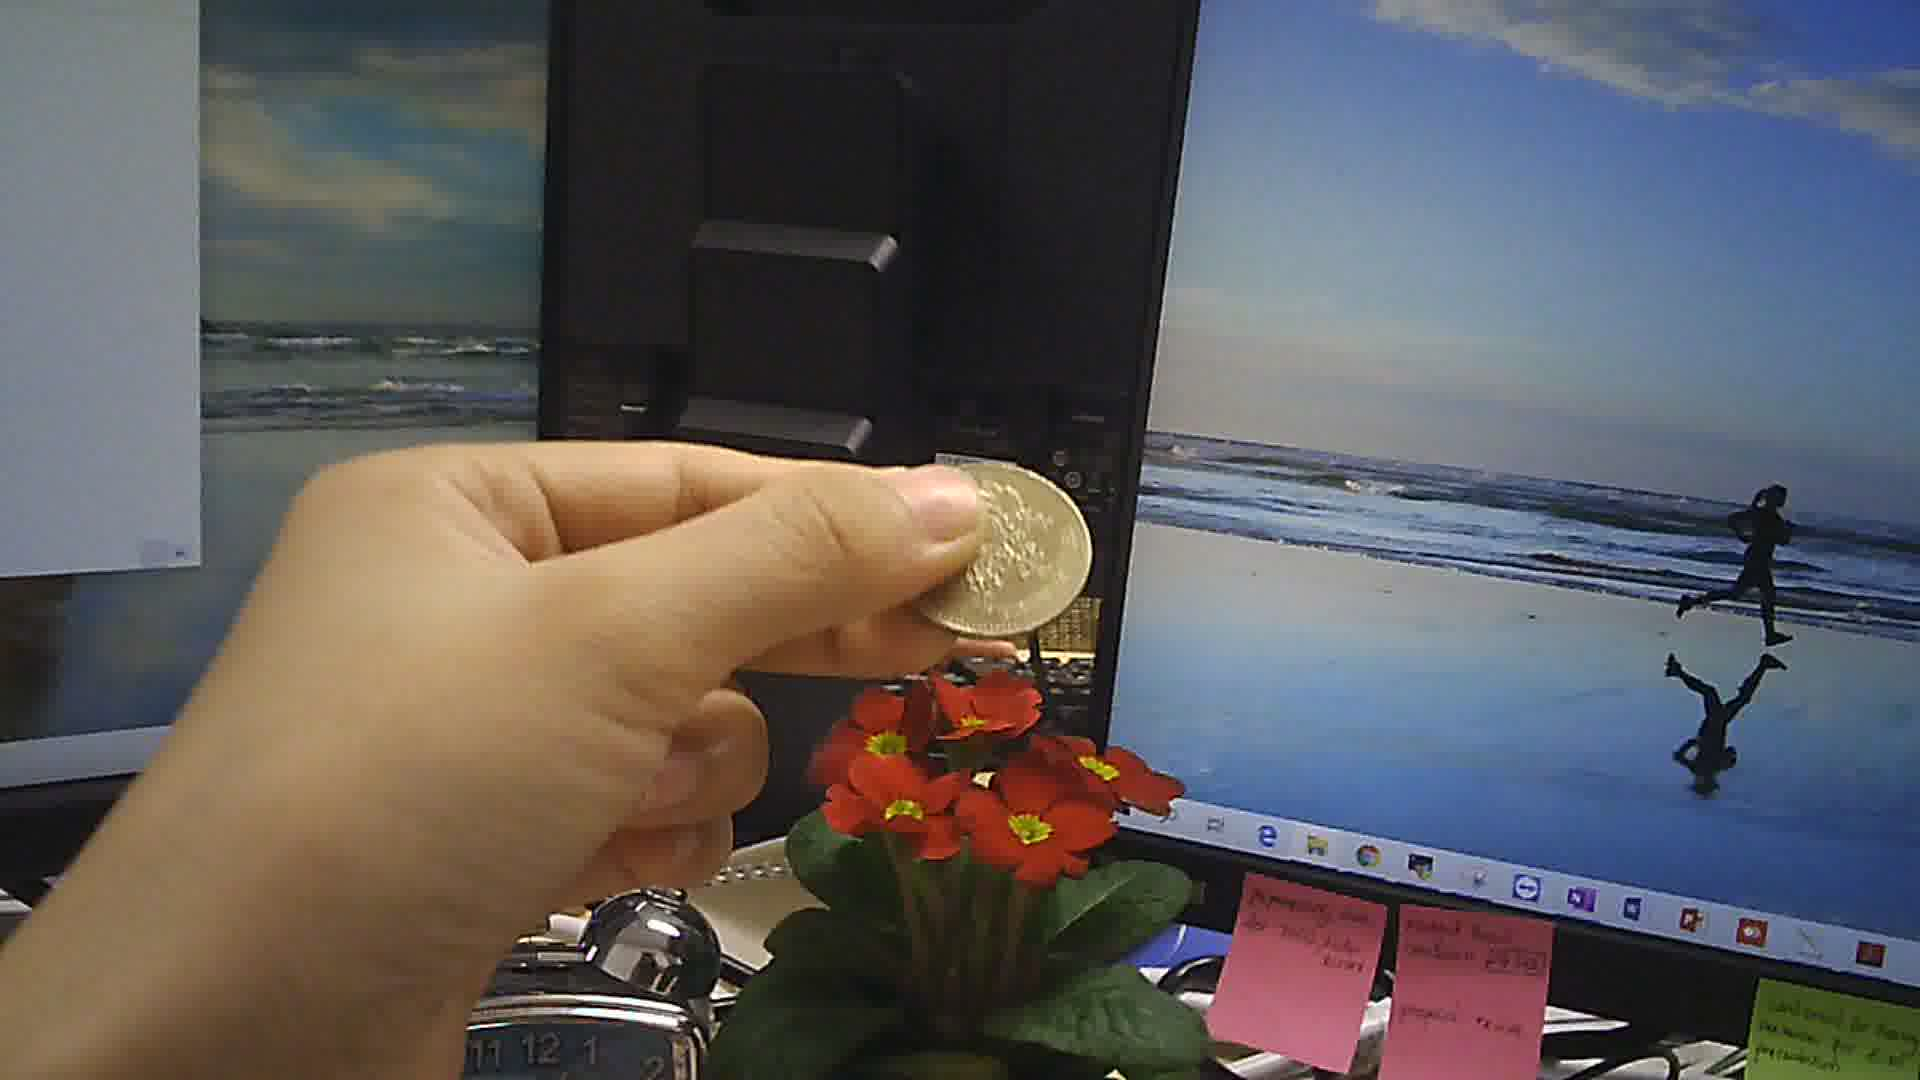500 Yen: (898, 451, 1093, 647)
